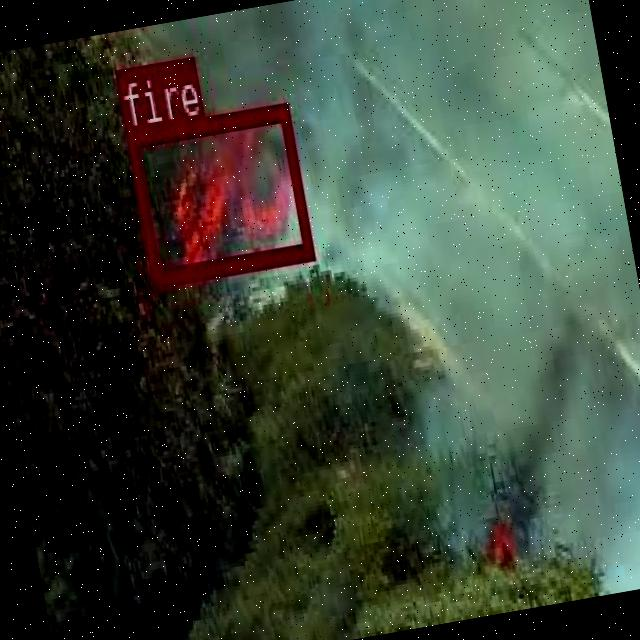fire: (124, 101, 314, 284)
